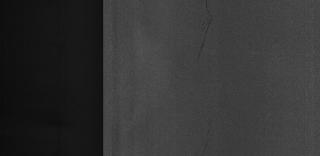water spot: (196, 4, 218, 70)
